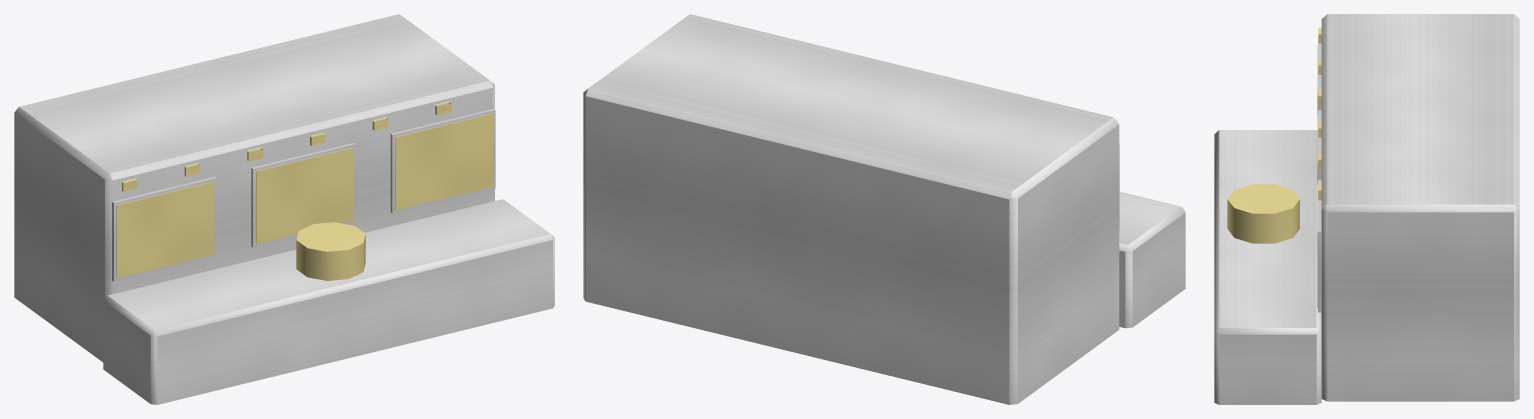
The model's file is multi_analyzer.obj.
3 renders of one model, left to right at view 1: azimuth 30°, elevation 25°; view 2: azimuth 150°, elevation 25°; view 3: azimuth 270°, elevation 25°, orthographic. The views are drawn at different scales.
Visible parts, largest first — view 1: main_instrument_cabinet, front_console, retained_15, retained_35, retained_25, retained_40, retained_30, retained_10, retained_20; view 2: main_instrument_cabinet, front_console; view 3: main_instrument_cabinet, front_console, retained_40, retained_30.
Part boxes in pixels (left/top/right/bottom): main_instrument_cabinet: left=14, top=14, right=494, bottom=362; front_console: left=103, top=199, right=554, bottom=404; retained_15: left=116, top=181, right=214, bottom=278; retained_35: left=395, top=113, right=492, bottom=210; retained_25: left=256, top=147, right=353, bottom=244; retained_40: left=296, top=222, right=365, bottom=280; retained_30: left=390, top=108, right=495, bottom=213; retained_10: left=112, top=176, right=216, bottom=281; retained_20: left=251, top=142, right=356, bottom=247; main_instrument_cabinet: left=583, top=14, right=1119, bottom=404; front_console: left=1119, top=191, right=1185, bottom=328; main_instrument_cabinet: left=1321, top=14, right=1519, bottom=401; front_console: left=1214, top=130, right=1321, bottom=404; retained_40: left=1227, top=184, right=1299, bottom=243; retained_30: left=1318, top=180, right=1321, bottom=312.
Bounding box in the file's own units: 2.9 × 1.3 × 1.85.
